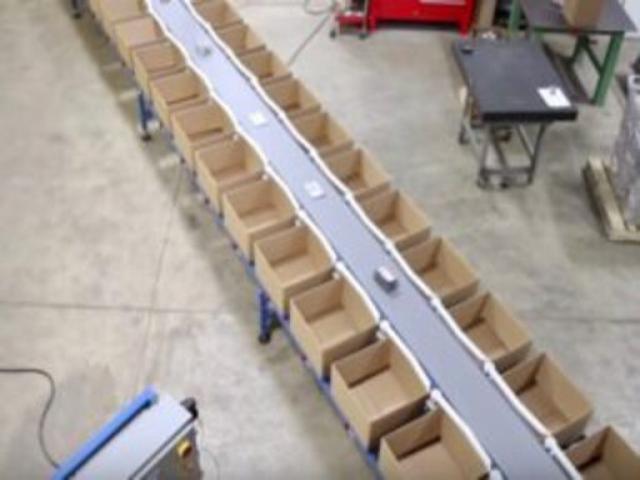conveyor: (55, 0, 639, 479)
